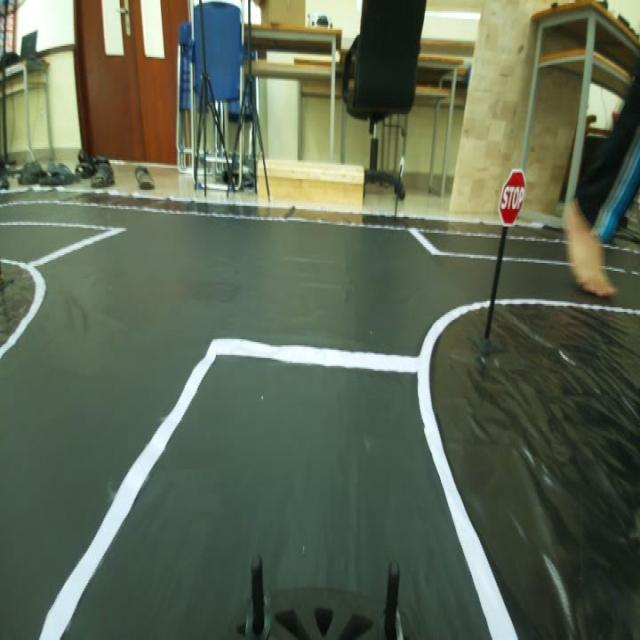stop: (496, 164, 524, 226)
